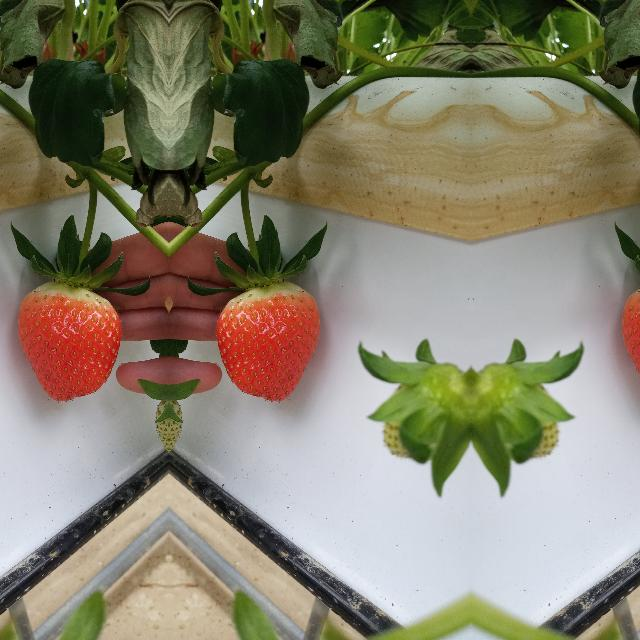Health_100: (214, 281, 320, 403), (17, 281, 122, 403)
Health_25: (356, 362, 470, 491), (471, 362, 585, 491)
